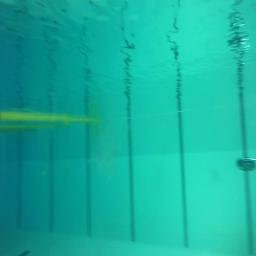Side: (235, 156, 256, 172)
